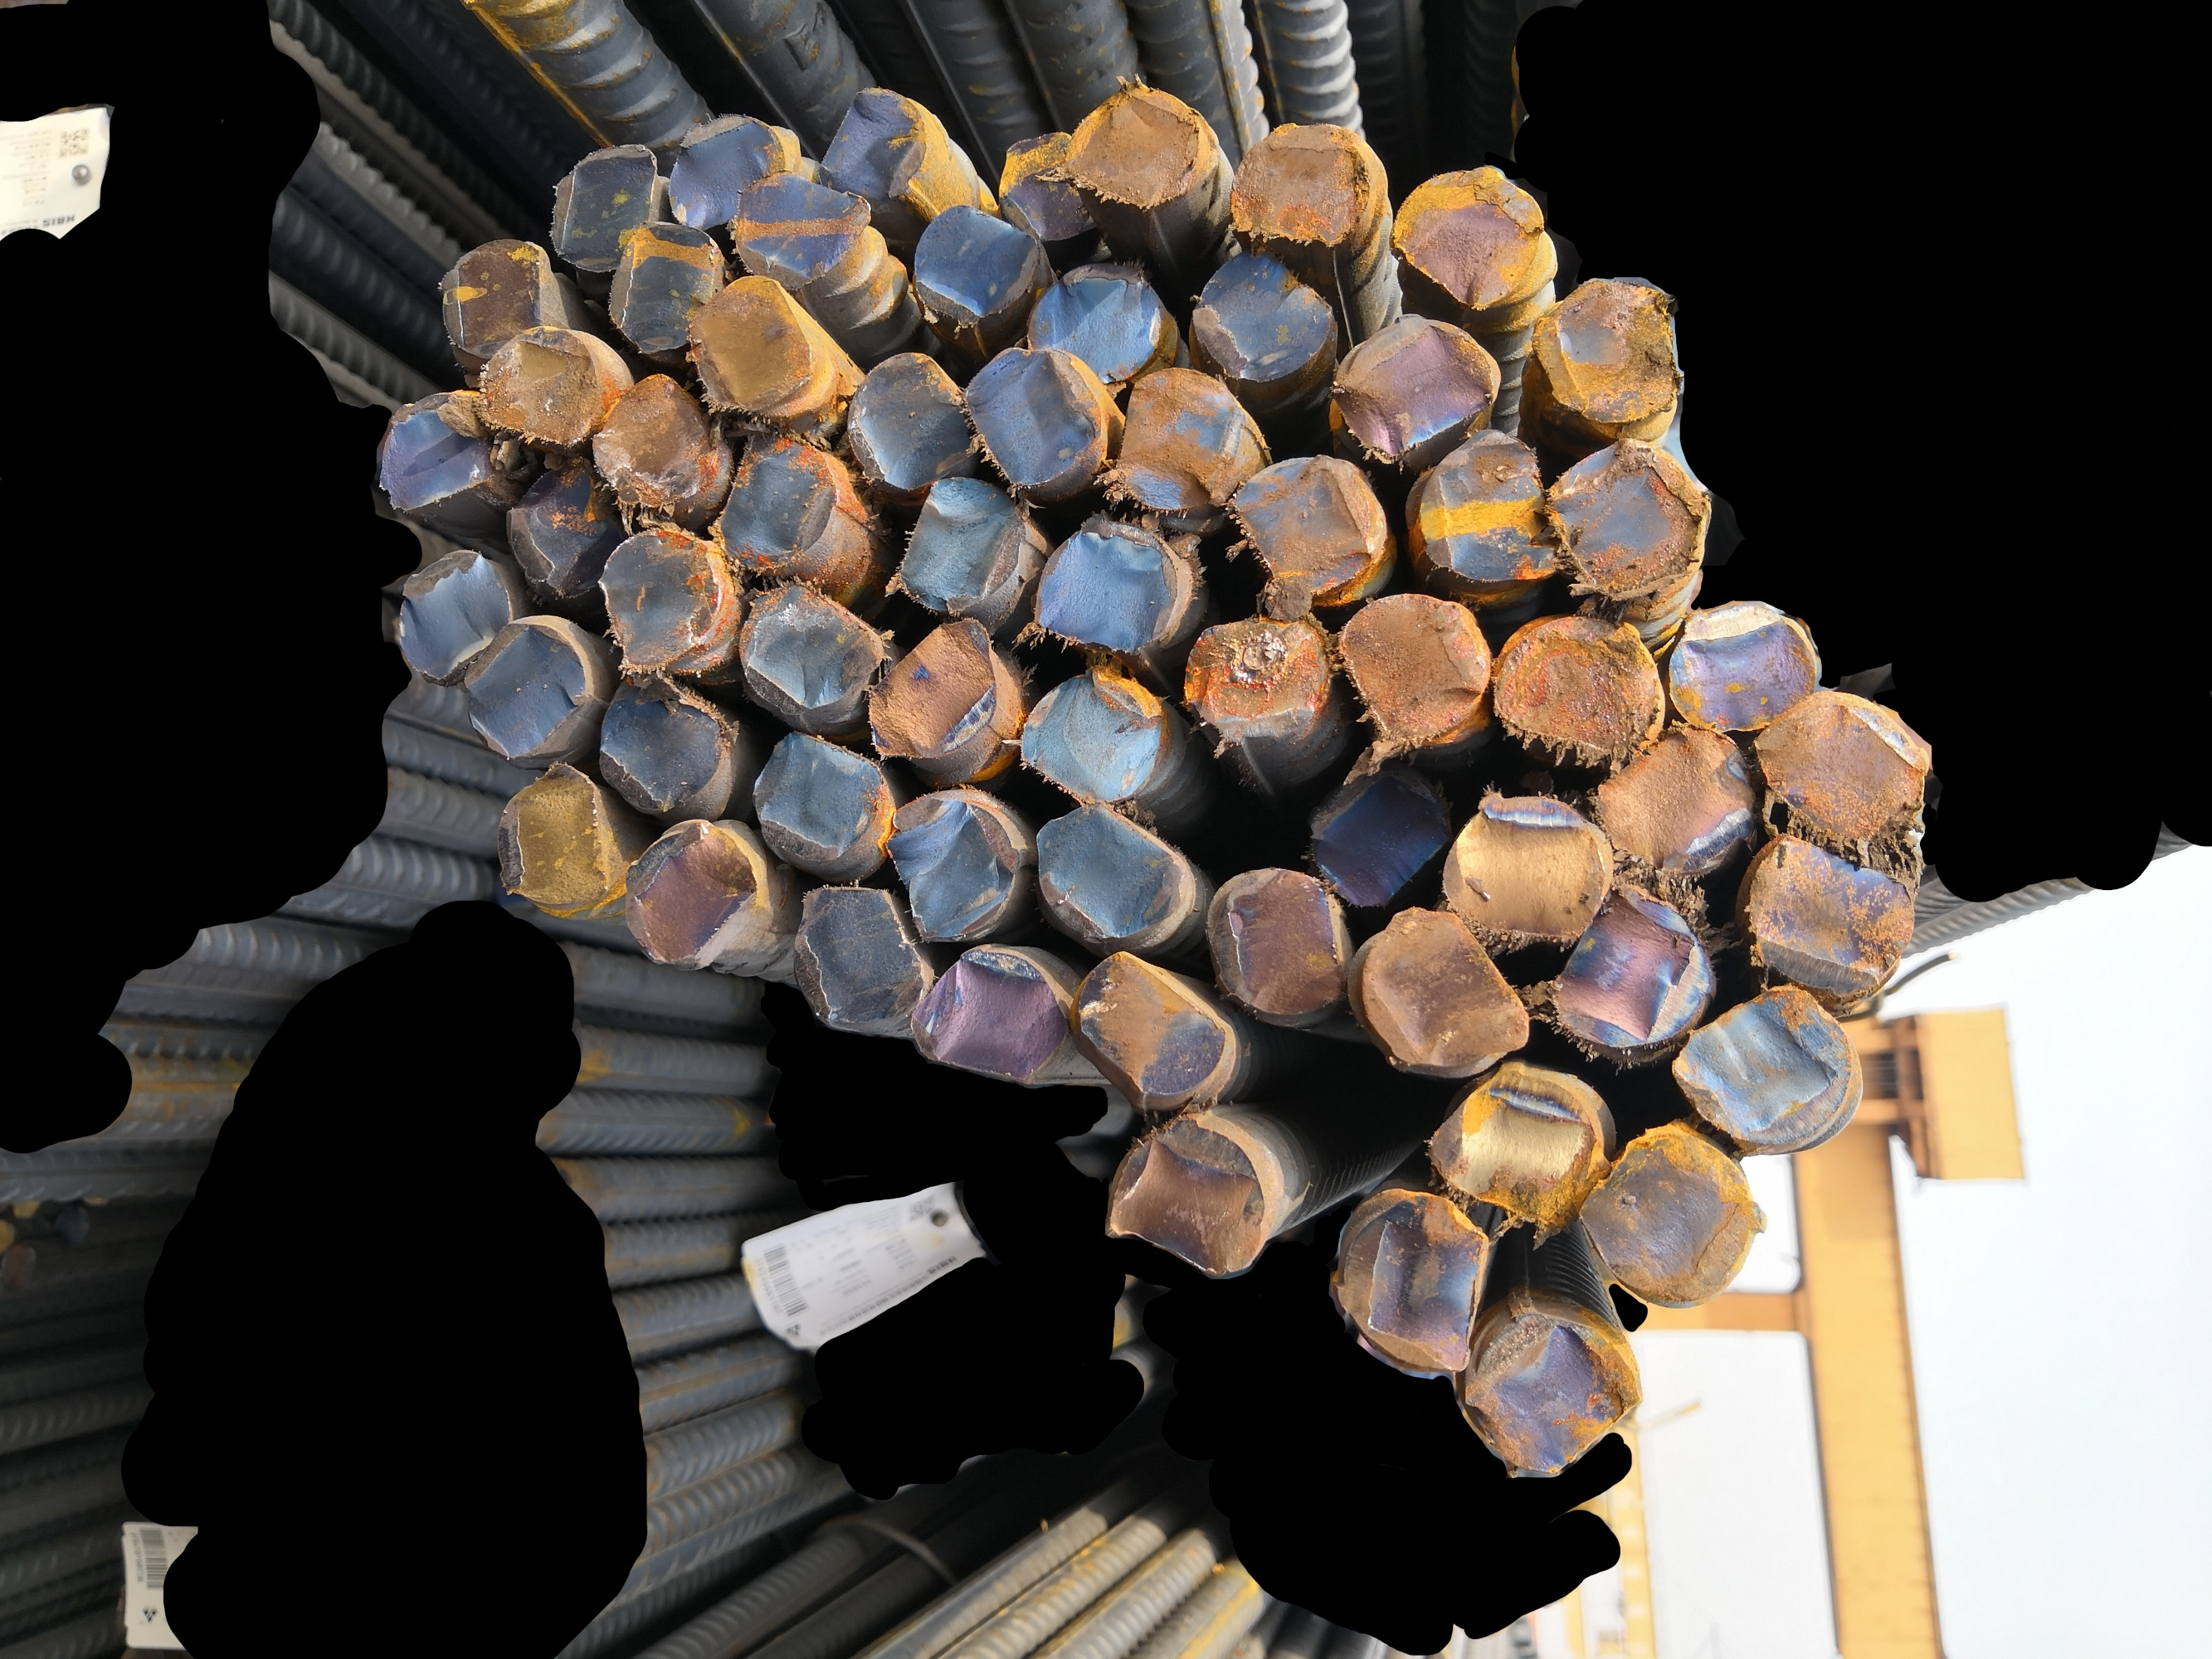rebar: (1579, 1121, 1762, 1310), (1455, 1300, 1645, 1478), (1537, 880, 1715, 1060), (1666, 985, 1855, 1150), (1332, 1183, 1487, 1382), (1424, 1063, 1611, 1227), (1358, 906, 1532, 1080), (1752, 687, 1933, 850), (1098, 1108, 1267, 1281), (1743, 833, 1919, 999), (1543, 436, 1710, 606), (1489, 613, 1666, 770), (1332, 589, 1492, 760), (1327, 308, 1503, 464), (1438, 789, 1616, 943), (1593, 718, 1762, 877), (1224, 453, 1388, 610), (1067, 950, 1231, 1105), (1407, 423, 1557, 589), (1529, 272, 1682, 430), (1306, 758, 1457, 917), (1389, 162, 1548, 314), (1030, 800, 1191, 950), (1204, 866, 1351, 1030), (910, 943, 1070, 1089), (1666, 592, 1823, 739), (490, 756, 626, 924), (1014, 666, 1168, 810), (455, 608, 598, 763), (1030, 518, 1189, 657), (959, 345, 1107, 493), (884, 789, 1021, 948), (858, 615, 1004, 763), (573, 369, 725, 512), (1109, 366, 1250, 519), (1182, 610, 1339, 748), (1185, 251, 1342, 389), (737, 573, 887, 716), (791, 882, 931, 1035), (594, 667, 737, 816), (591, 525, 732, 674), (619, 819, 758, 969), (891, 471, 1030, 619), (366, 385, 514, 523), (844, 345, 980, 495), (1225, 117, 1377, 247), (685, 268, 816, 418), (708, 429, 838, 577), (748, 727, 887, 864), (392, 542, 519, 685), (1063, 82, 1208, 207), (1021, 260, 1164, 385), (730, 171, 877, 291), (912, 197, 1046, 328), (476, 324, 614, 450), (502, 450, 619, 594), (429, 232, 558, 361), (549, 139, 669, 275), (605, 218, 723, 354), (664, 108, 791, 234), (816, 77, 938, 202), (992, 125, 1093, 247)
